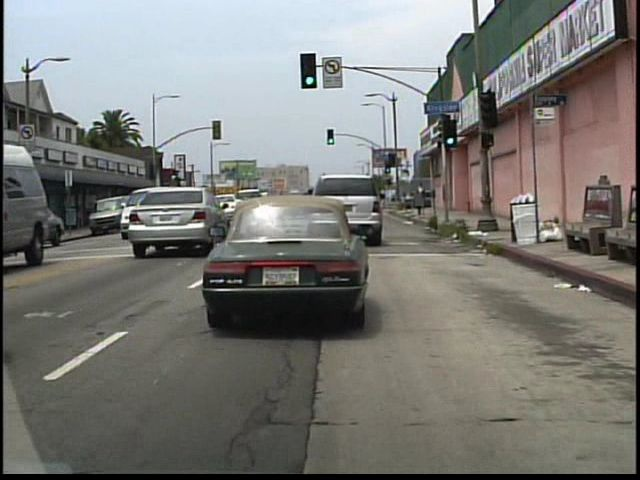person: (415, 182, 428, 210)
